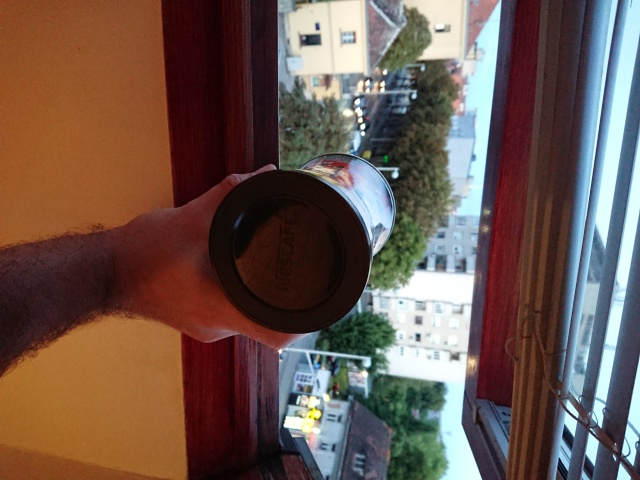Nescafe Classic 225g: (204, 150, 400, 337)
